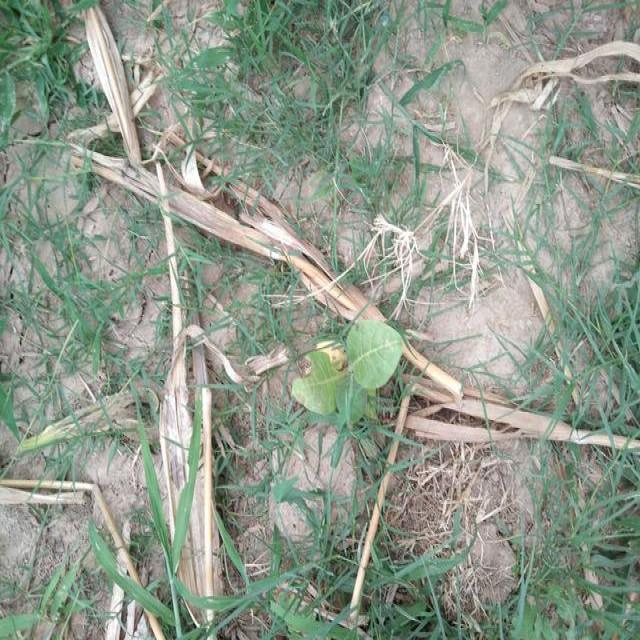crop: (281, 290, 404, 428)
